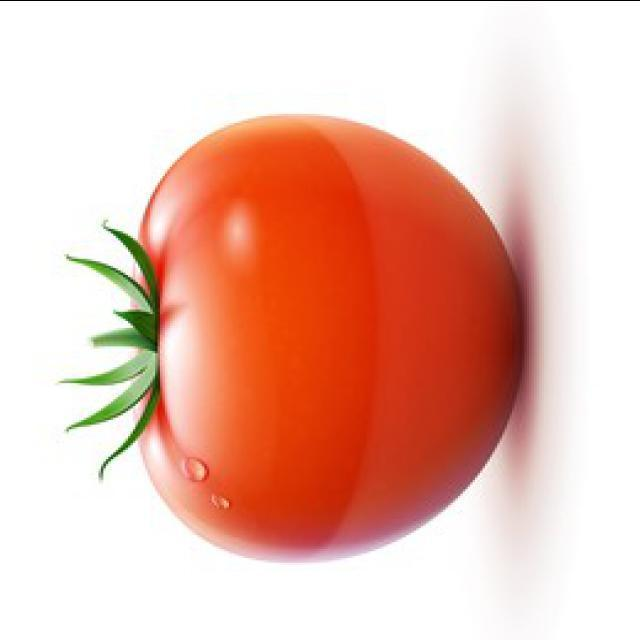Tomato: (110, 115, 527, 567)
